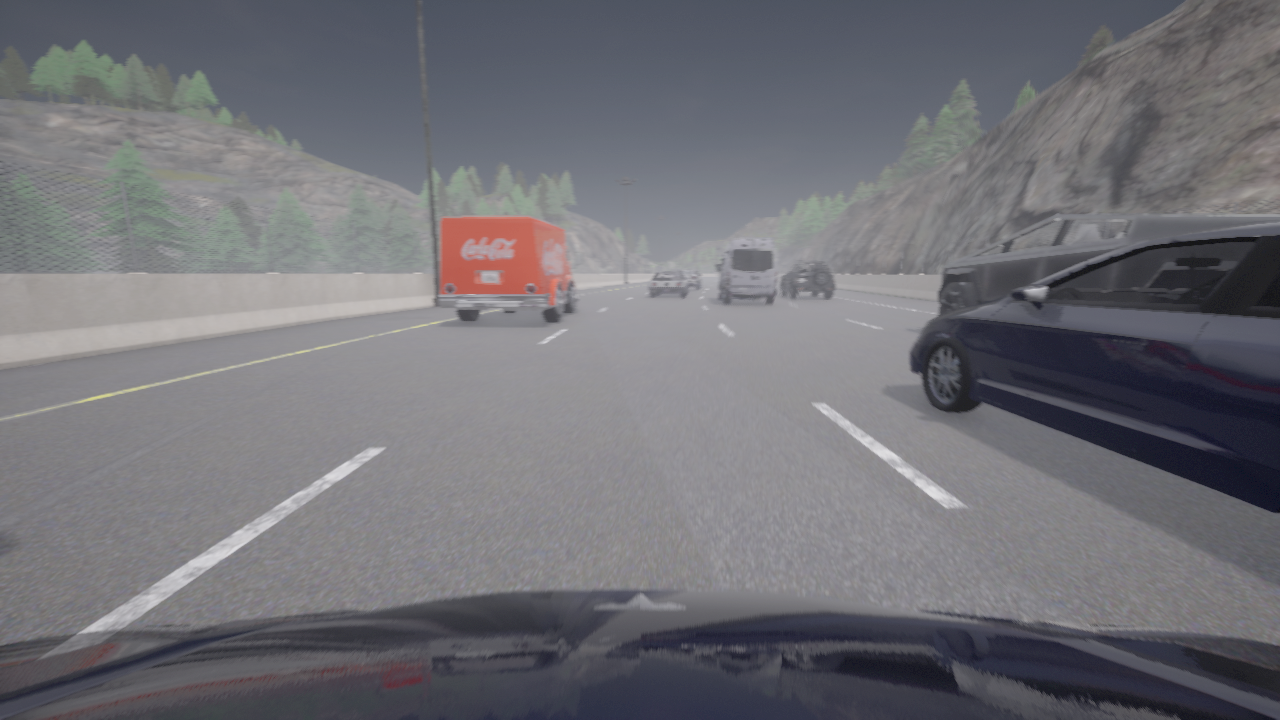cyclist: (0, 588, 1279, 719), (910, 221, 1279, 512), (937, 214, 1279, 316), (438, 216, 582, 322), (716, 238, 777, 303), (780, 261, 834, 298), (648, 272, 687, 296), (680, 271, 700, 284)
